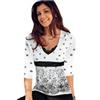maglia: (24, 28, 75, 96)
